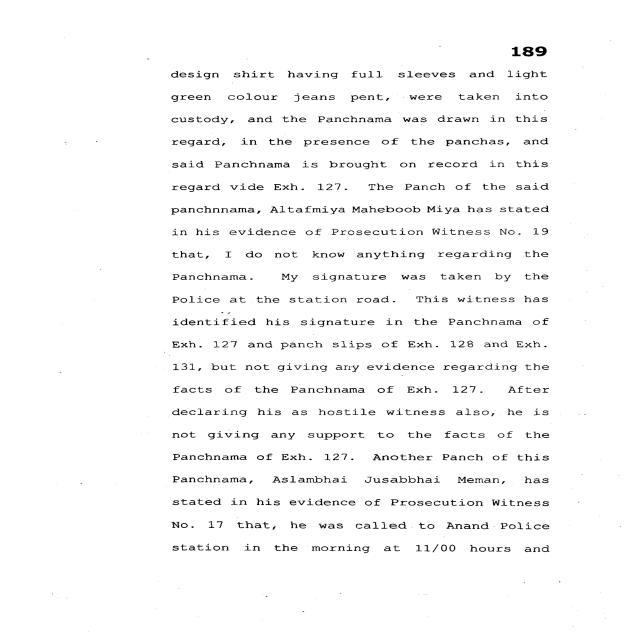page-number: (416, 0, 634, 61)
